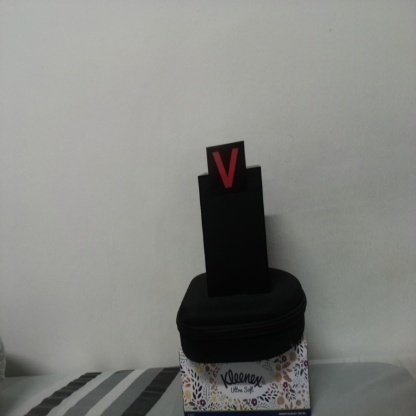id_11: (206, 146, 247, 202)
